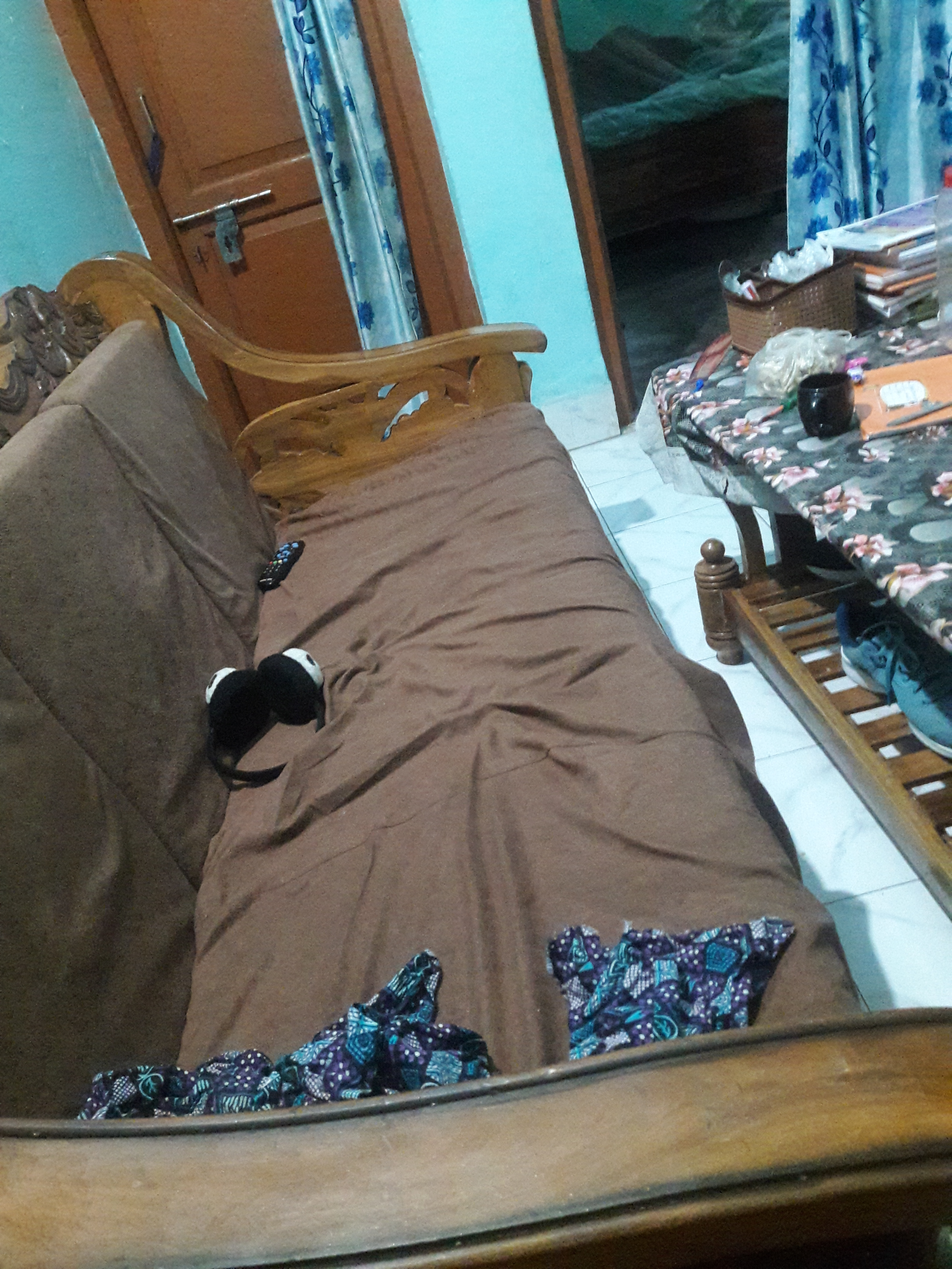sofa: (0, 251, 952, 1269)
table: (626, 229, 952, 914)
